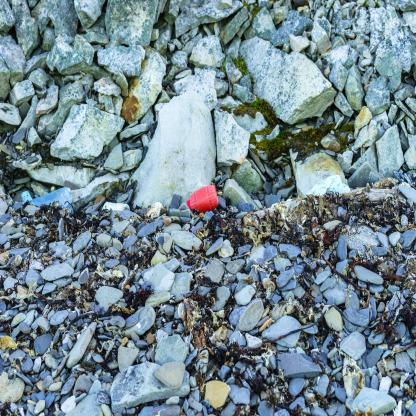Other plastic container: (186, 185, 218, 214)
Plastic bottle cap: (186, 200, 191, 211)
Styrofoam piece: (144, 201, 163, 219), (102, 201, 130, 210)
